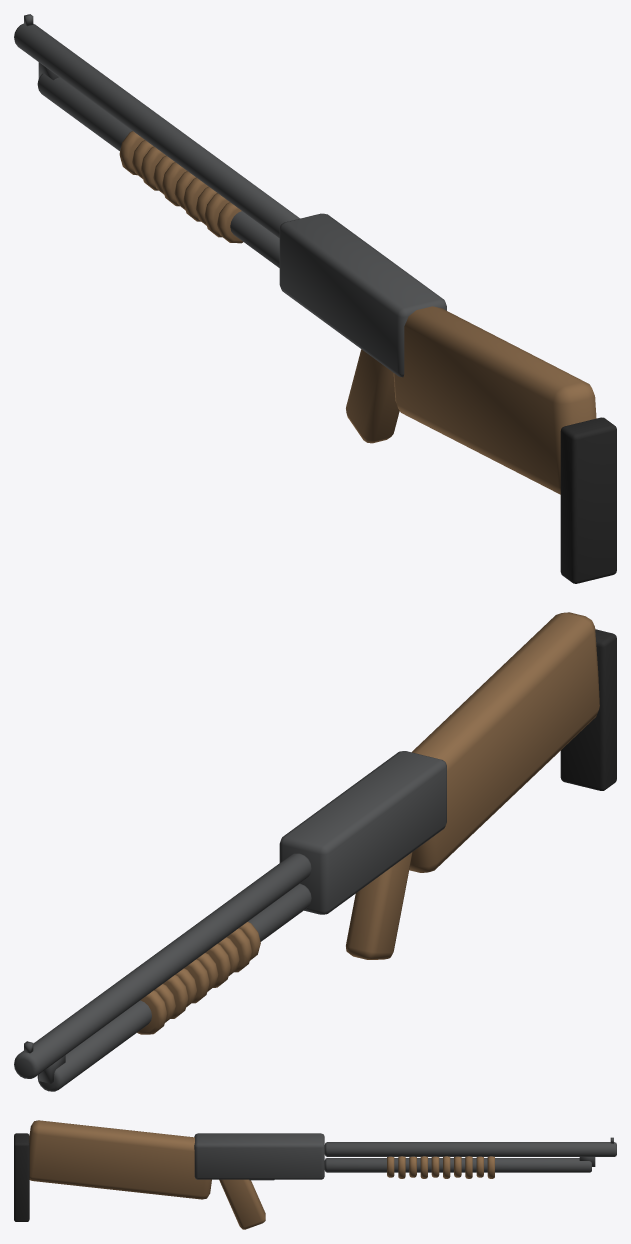
The model's file is arma_escopeta.glb.
3 renders of one model, top to bottom at view 1: azimuth 30°, elevation 25°; view 2: azimuth 150°, elevation 25°; view 3: azimuth 270°, elevation 25°, orthographic. The views are drawn at different scales.
Visible parts, largest first — view 1: tubo; view 2: tubo; view 3: tubo.
Part boxes in pixels (x1,y1,x2,y2): tubo: [14, 14, 616, 583]; tubo: [14, 612, 616, 1091]; tubo: [14, 1120, 616, 1229].
Size of the model in its own units: 0.048 by 0.1859 by 0.97.
